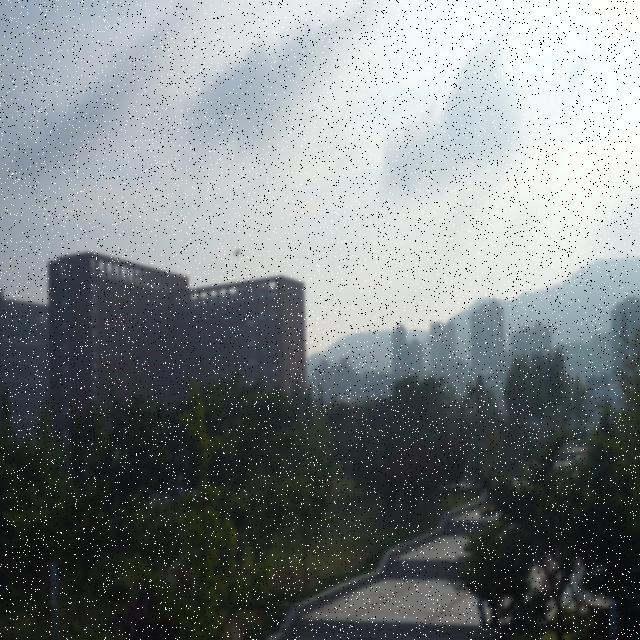UAV: (232, 247, 241, 258)
